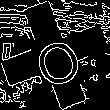O_N: (26, 23, 84, 87)
